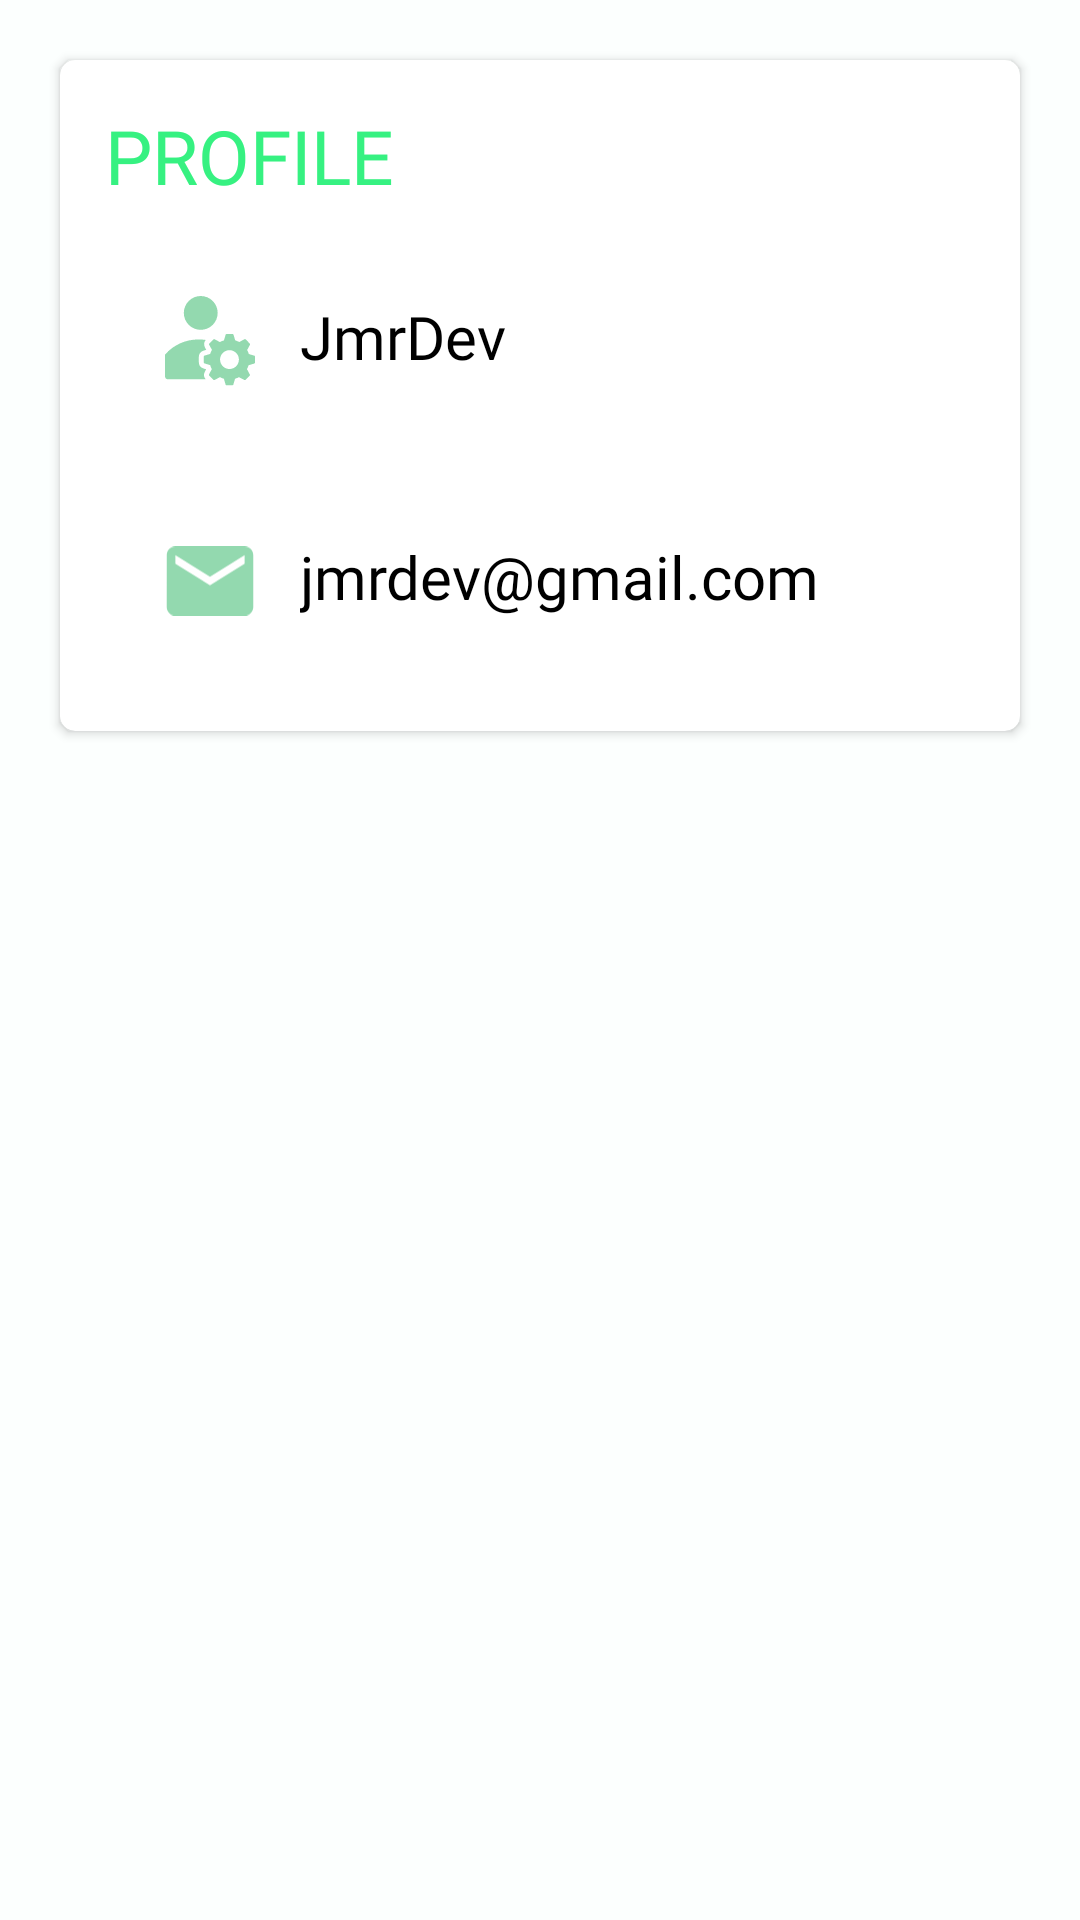

Screen size 1080px×1920px. Icon name, then its center in pixels as (x=x, y=y):
admin: (x=210, y=341)
email: (x=210, y=581)
